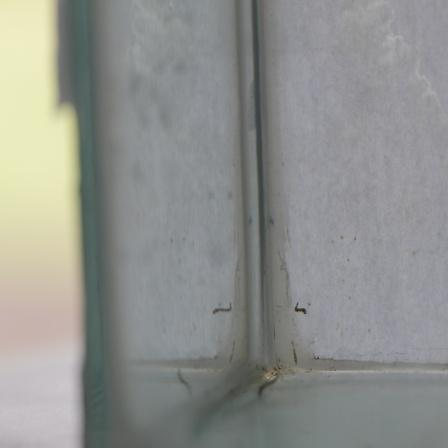Jentik-Nyamuk: (291, 302, 312, 318)
